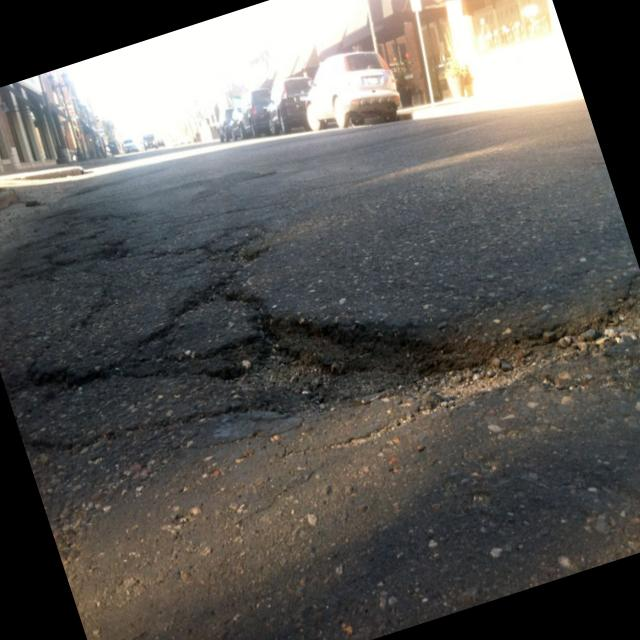Potholes: (146, 117, 640, 519)
